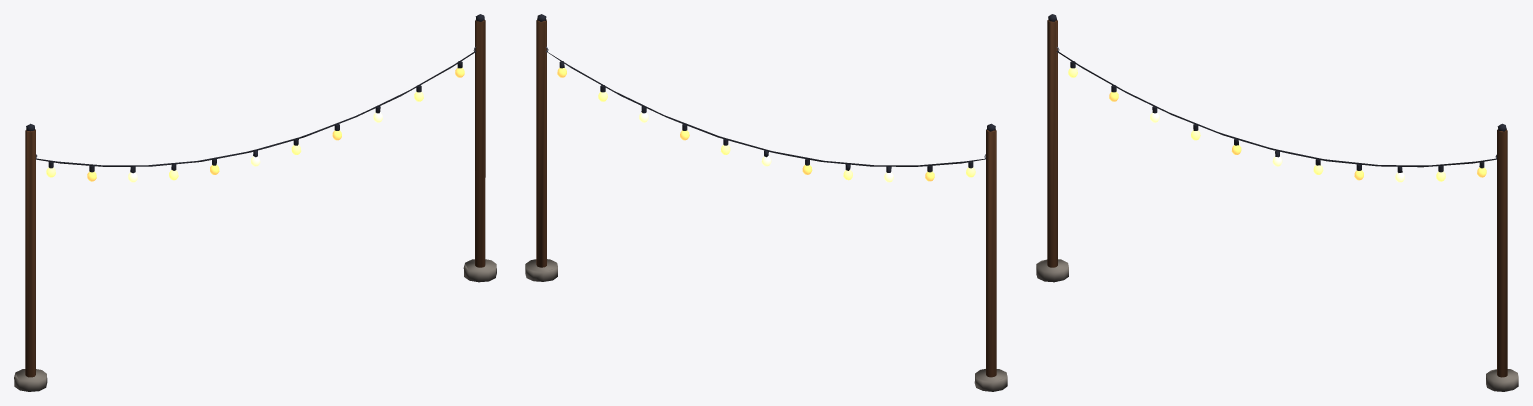
File: guirlande_ampoules.glb
3 renders of one model, left to right at view 1: azimuth 30°, elevation 25°; view 2: azimuth 150°, elevation 25°; view 3: azimuth 330°, elevation 25°, orthographic.
Parts seen in each view (by area): view 1: guirlande_ampoules; view 2: guirlande_ampoules; view 3: guirlande_ampoules.
Part boxes in pixels (bbox=[...]): guirlande_ampoules: bbox=[14, 14, 496, 391]; guirlande_ampoules: bbox=[525, 14, 1007, 391]; guirlande_ampoules: bbox=[1036, 14, 1518, 391].
Bounding box in the file's own units: 6.37 × 3.34 × 0.3882.
